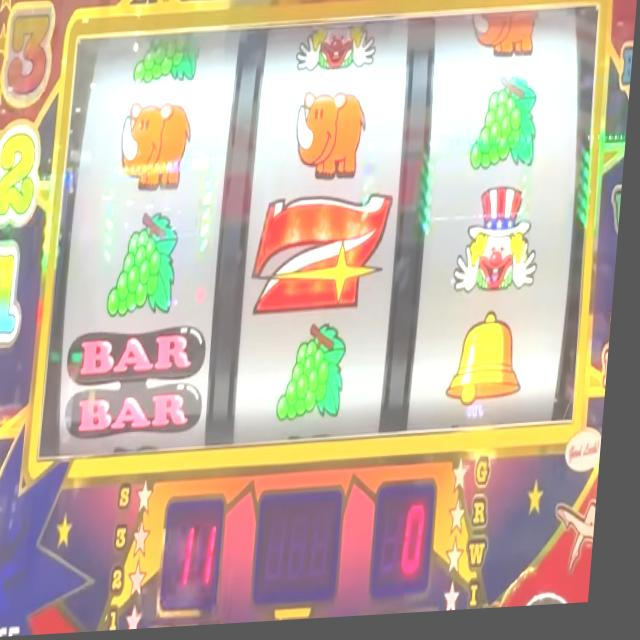bar: (66, 322, 215, 442)
bell: (452, 315, 534, 411)
clown: (454, 188, 547, 302), (296, 27, 379, 79)
display: (47, 7, 611, 473)
elephant: (295, 89, 371, 191), (120, 97, 196, 198), (467, 15, 538, 65)
grape: (112, 212, 186, 323), (472, 75, 546, 183), (283, 324, 357, 429), (134, 35, 204, 88)
z: (254, 197, 395, 320)
